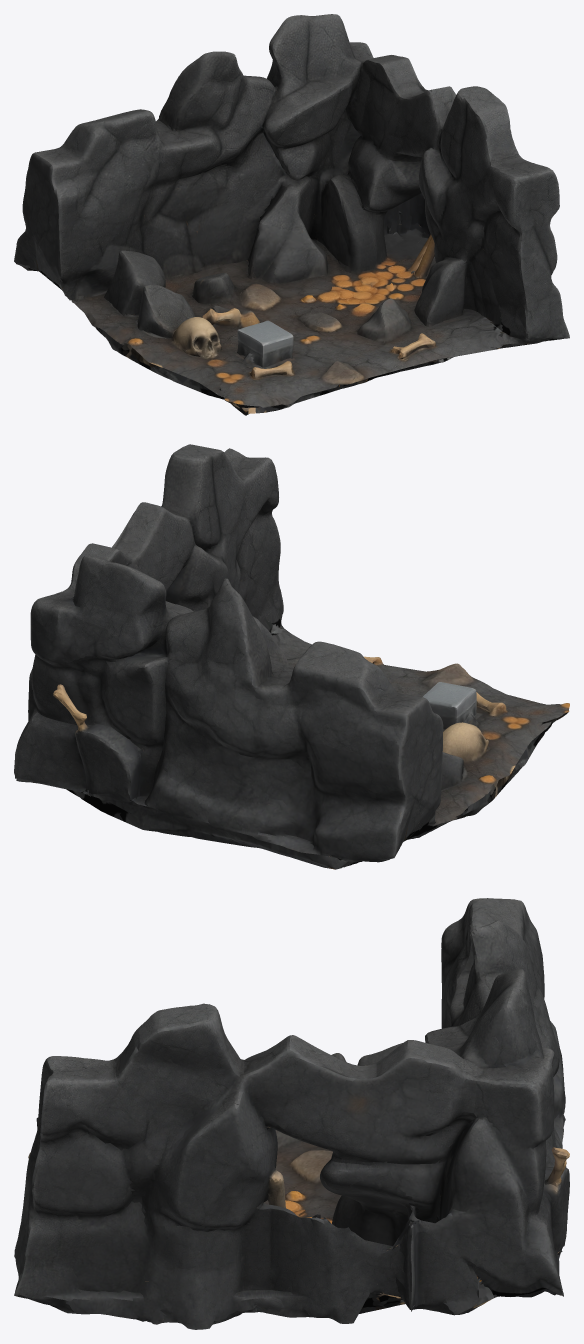
The model's file is dragon-cave.glb.
3 renders of one model, top to bottom at view 1: azimuth 30°, elevation 25°; view 2: azimuth 150°, elevation 25°; view 3: azimuth 270°, elevation 25°, orthographic. The views are drawn at different scales.
Visible parts, largest first — view 1: output_unwrapped; view 2: output_unwrapped; view 3: output_unwrapped.
Part boxes in pixels (x1=…): output_unwrapped: x1=14, y1=14, x2=569, y2=415; output_unwrapped: x1=14, y1=444, x2=569, y2=869; output_unwrapped: x1=14, y1=898, x2=569, y2=1329.
Bounding box in the file's own units: 1.89 × 1.11 × 1.89.
1 material, 1 textured.
